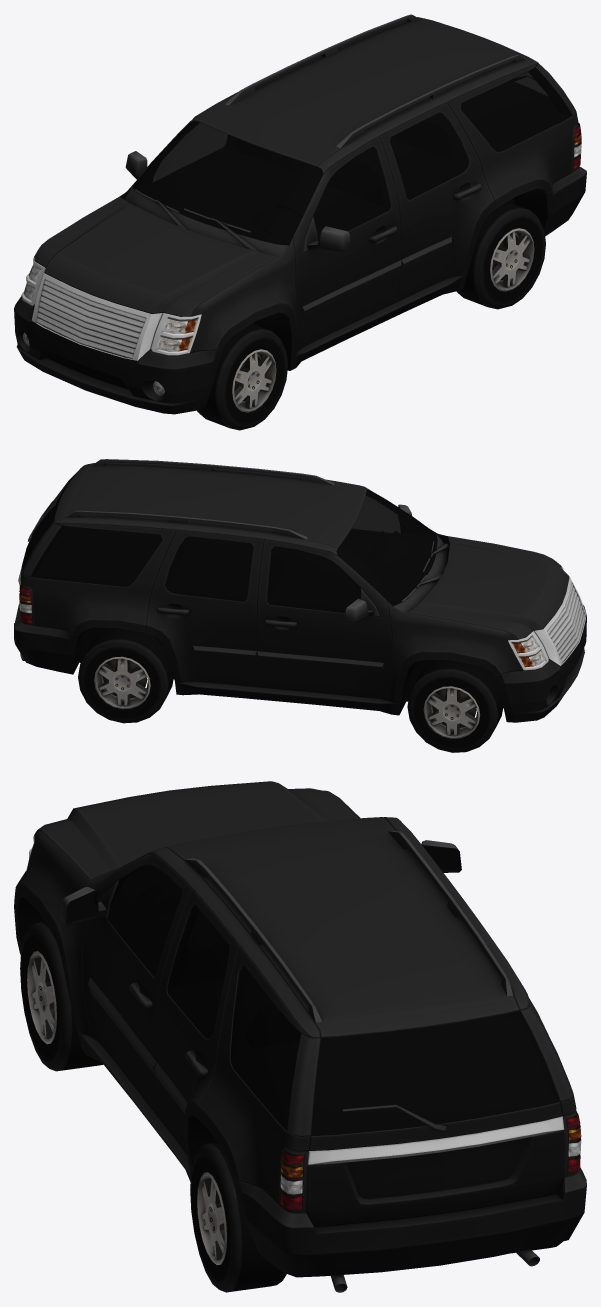
The model's file is SUV.glb.
3 views of the same model, one above another, from view 1: azimuth 30°, elevation 25°; view 2: azimuth 150°, elevation 25°; view 3: azimuth 270°, elevation 25° (orthographic). The views are drawn at different scales.
Parts seen in each view (by area): view 1: SUV Body_Body_0.001, SUV Body, Wheel_E001_Wheel_0.001, Wheel_E_Wheel_0.001; view 2: SUV Body_Body_0.001, SUV Body, Wheel_E003_Wheel_0.001, Wheel_E002_Wheel_0.001; view 3: SUV Body_Body_0.001, SUV Body, Wheel_E001_Wheel_0.001, Wheel_E_Wheel_0.001.
Part boxes in pixels (bbox=[...]): SUV Body_Body_0.001: bbox=[14, 14, 586, 414]; SUV Body: bbox=[23, 15, 582, 396]; Wheel_E001_Wheel_0.001: bbox=[456, 201, 545, 309]; Wheel_E_Wheel_0.001: bbox=[197, 323, 287, 430]; SUV Body_Body_0.001: bbox=[14, 459, 586, 722]; SUV Body: bbox=[15, 468, 585, 722]; Wheel_E003_Wheel_0.001: bbox=[78, 628, 173, 723]; Wheel_E002_Wheel_0.001: bbox=[407, 660, 503, 752]; SUV Body_Body_0.001: bbox=[14, 781, 586, 1292]; SUV Body: bbox=[17, 831, 581, 1292]; Wheel_E001_Wheel_0.001: bbox=[190, 1142, 286, 1292]; Wheel_E_Wheel_0.001: bbox=[20, 921, 103, 1071].
Bounding box in the file's own units: 4.65 × 1.73 × 2.84.
5 materials, 4 textured.
